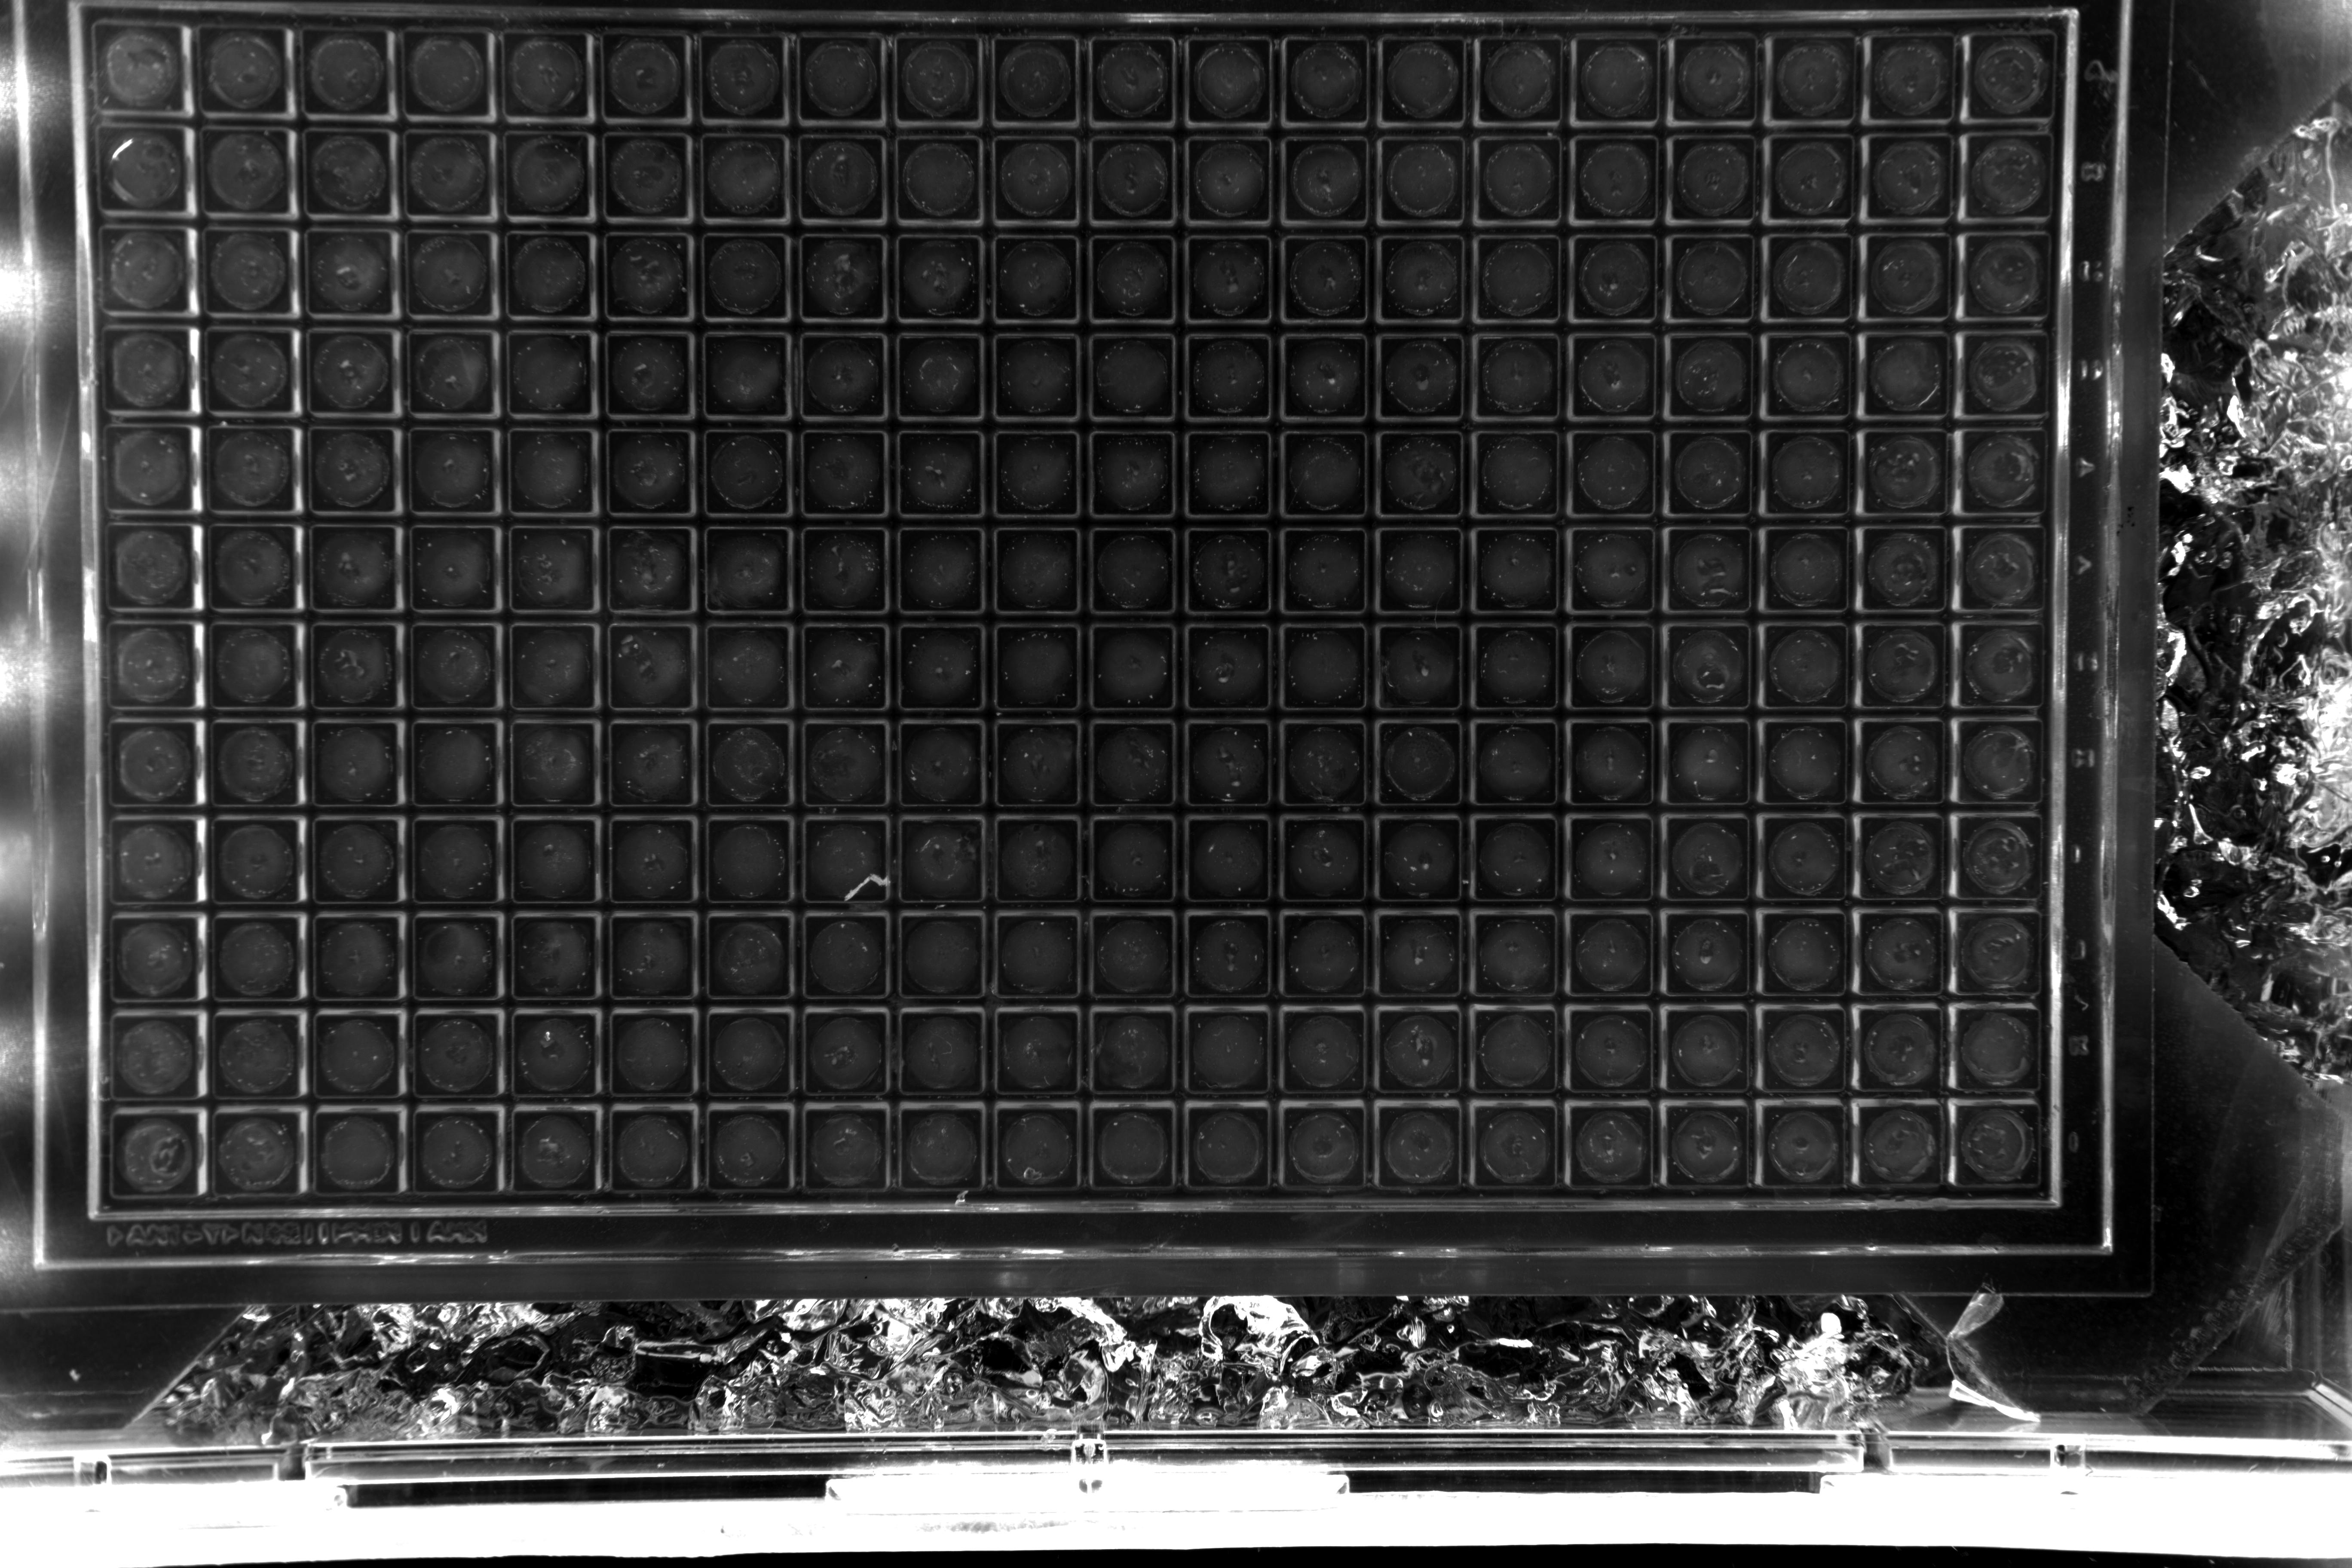WM_well: (203, 829, 292, 917), (395, 535, 485, 623), (1176, 1209, 1263, 1298), (1176, 630, 1265, 717), (303, 926, 390, 1013), (593, 632, 681, 719), (595, 826, 682, 913), (595, 924, 682, 1011), (688, 338, 775, 425), (693, 1213, 780, 1300), (787, 534, 875, 621), (983, 630, 1071, 717), (1078, 338, 1165, 425), (1080, 1017, 1167, 1104), (1176, 240, 1263, 327), (1272, 1113, 1360, 1200), (1274, 726, 1361, 814), (1372, 138, 1459, 226), (1564, 822, 1652, 910), (1568, 334, 1655, 422), (1766, 133, 1853, 220), (1960, 724, 2047, 812), (2061, 427, 2149, 514)
